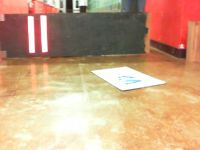switch: (27, 16, 36, 54), (40, 15, 48, 53)
